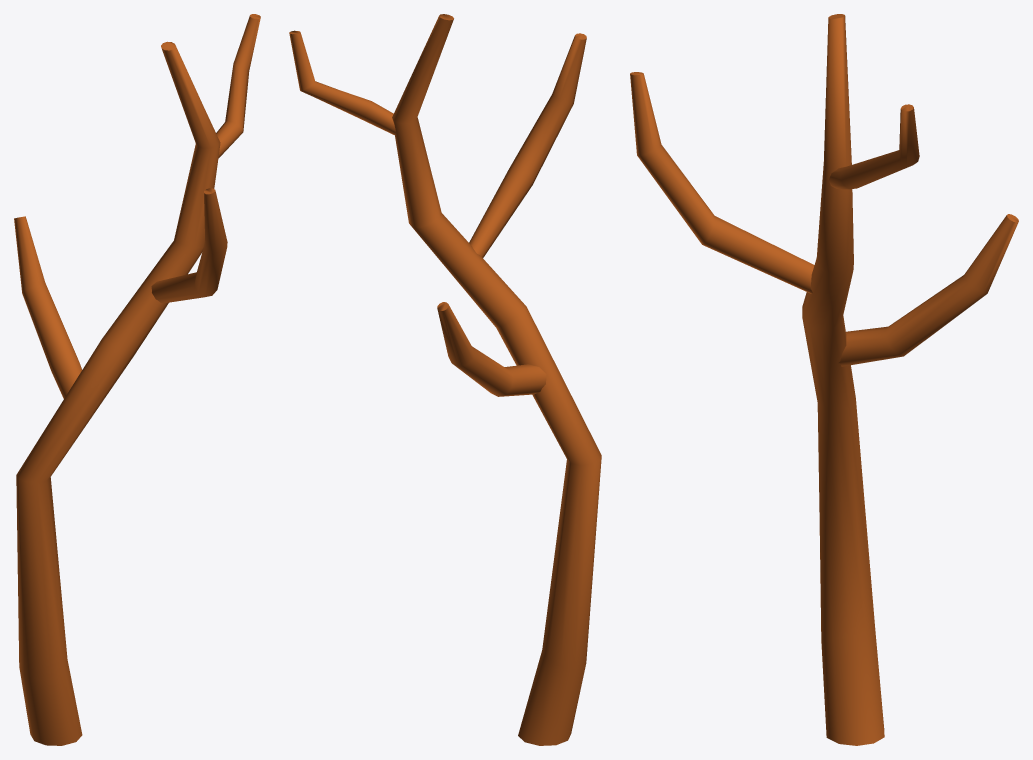
File: TreeTrunk_15.fbx
The picture shows the model from 3 angles, left to right: view 1: azimuth 30°, elevation 25°; view 2: azimuth 150°, elevation 25°; view 3: azimuth 270°, elevation 25°; orthographic projection. The views are drawn at different scales.
Visible parts, largest first — view 1: TreeTrunk_15; view 2: TreeTrunk_15; view 3: TreeTrunk_15.
Part boxes in pixels (x1,y1,x2,y2): TreeTrunk_15: (14,14,260,745); TreeTrunk_15: (289,14,601,745); TreeTrunk_15: (630,14,1018,745).
Bounding box in the file's own units: 182 × 430 × 195.
